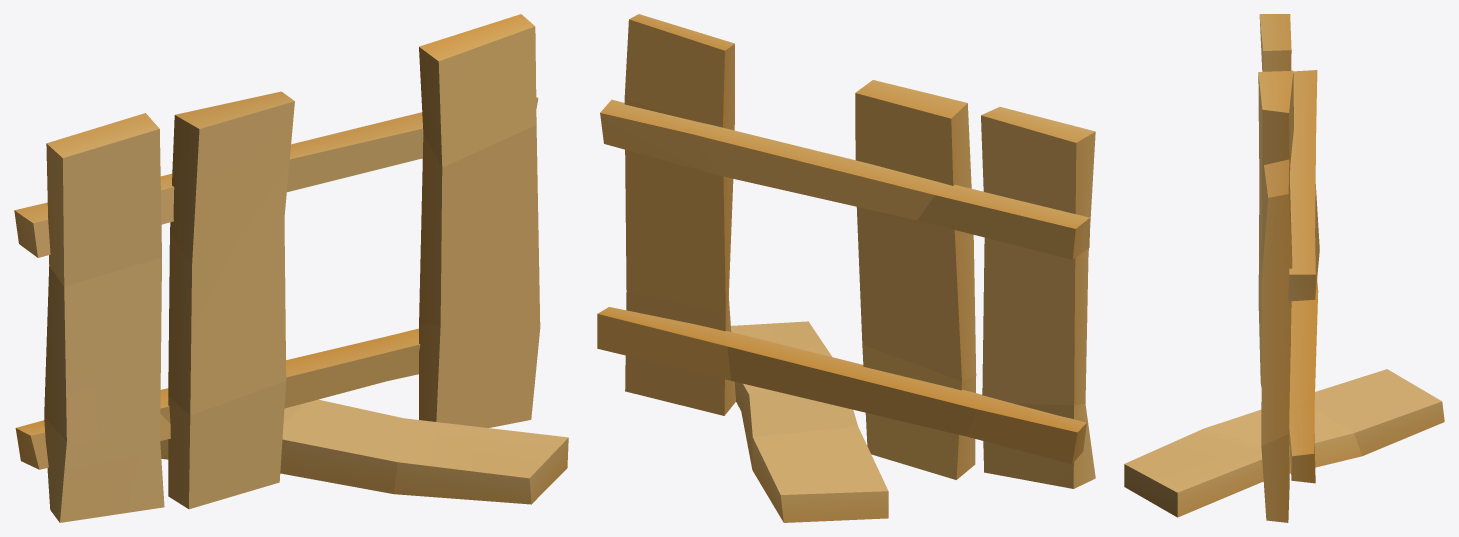
File: PagarKayu5.fbx
The picture shows the model from 3 angles, left to right: view 1: azimuth 30°, elevation 25°; view 2: azimuth 150°, elevation 25°; view 3: azimuth 270°, elevation 25°; orthographic projection. The views are drawn at different scales.
Visible parts, largest first — view 1: Fence_06; view 2: Fence_06; view 3: Fence_06.
Boxes of the visible parts, bbox=[...] form: Fence_06: bbox=[14, 14, 568, 522]; Fence_06: bbox=[597, 14, 1095, 522]; Fence_06: bbox=[1124, 14, 1444, 522].
Bounding box in the file's own units: 102 × 77.04 × 66.93.
